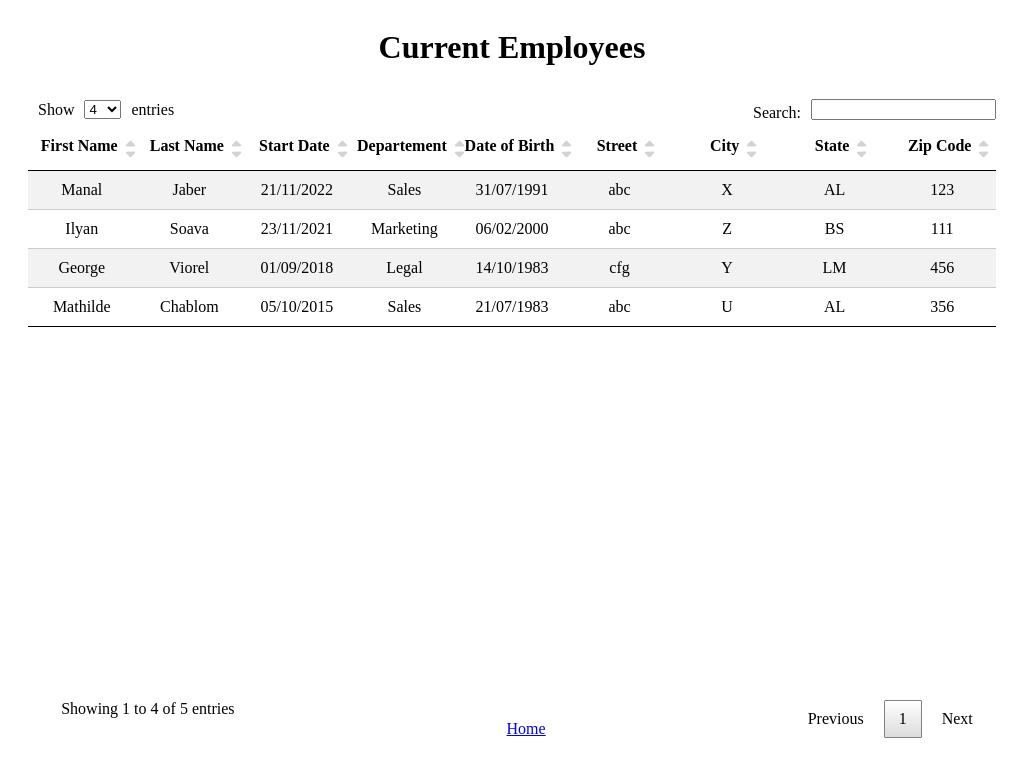
Test for Employee pages › to display a fixed number on the table row
This screenshot has width=1024, height=768.
Select "6" in the dropdown with id "entries" at (104, 110), box [85,100,122,119]
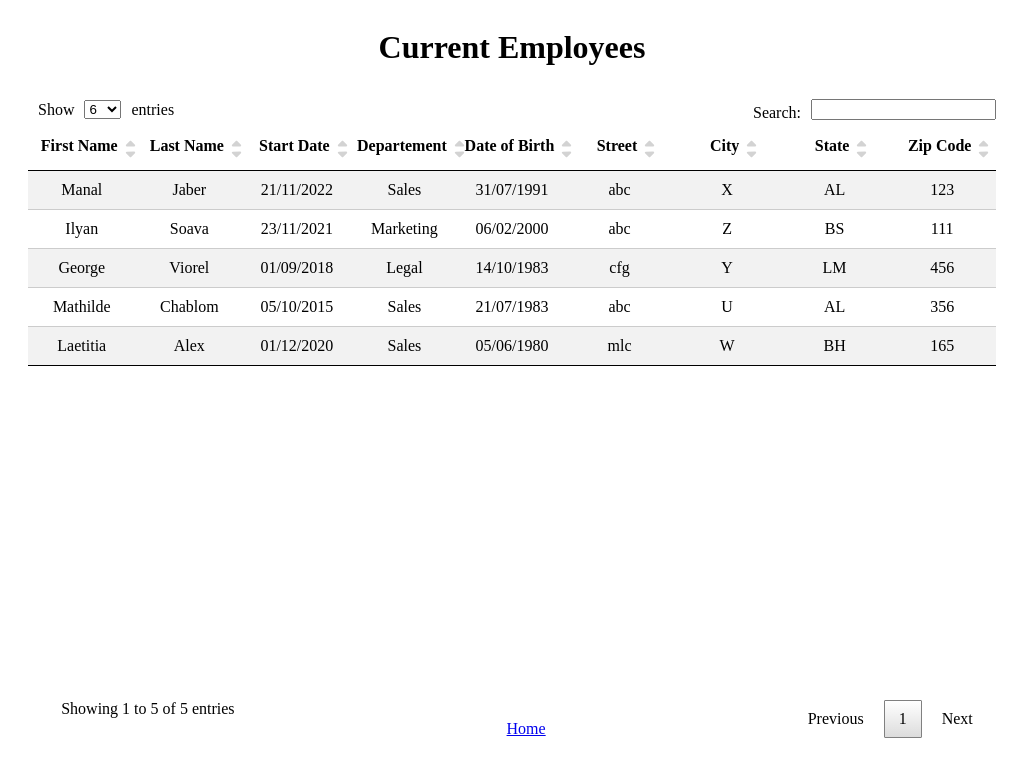
Now the number of rows is at most 6
